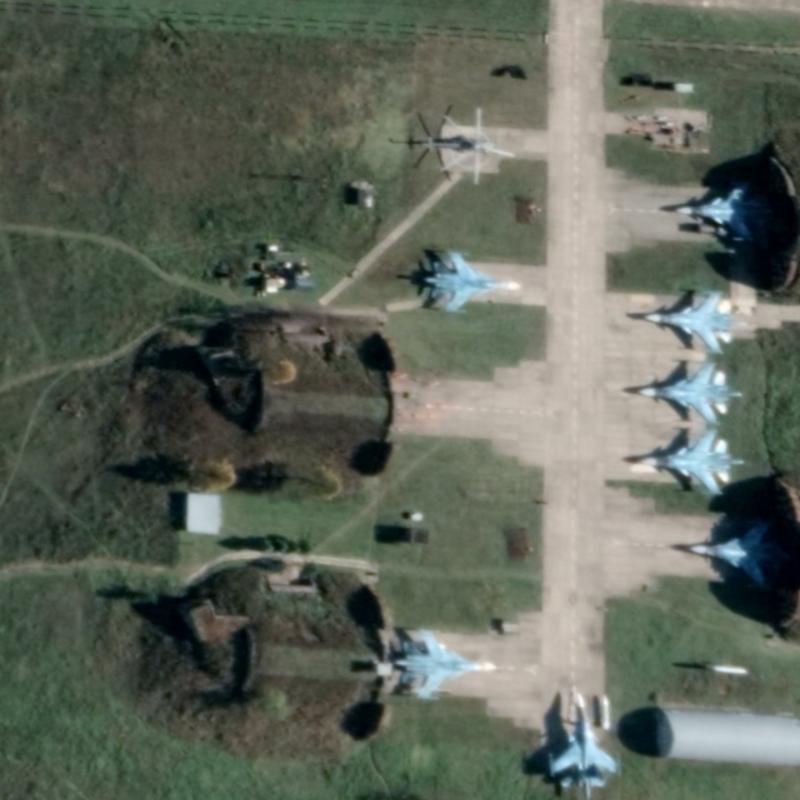A19: (617, 418, 744, 504), (381, 621, 502, 707), (536, 679, 621, 799), (668, 516, 786, 594), (414, 239, 523, 321), (625, 354, 742, 427), (635, 282, 740, 360), (669, 176, 766, 249)
